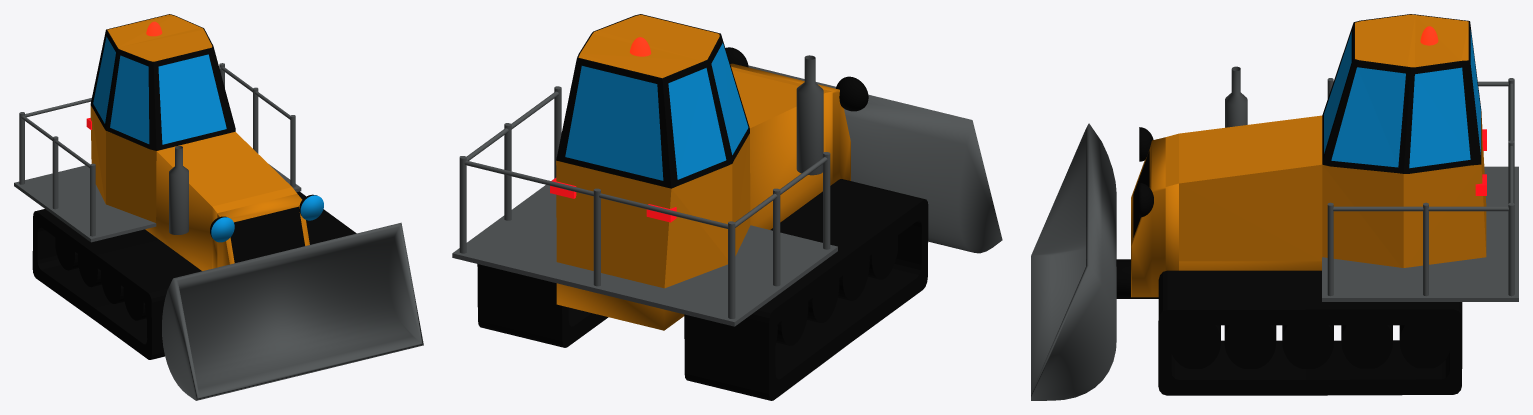
File: untitledupgradedShort.dae
3 views of the same model, side by side, from view 1: azimuth 30°, elevation 25°; view 2: azimuth 150°, elevation 25°; view 3: azimuth 270°, elevation 25° (orthographic). The views are drawn at different scales.
Parts seen in each view (by area): view 1: Korpus, FrontKnife, RightTrack, Plane.001, GasTube, Sphere, LeftTrack, Cylinder.005, Cylinder.002, Cylinder.001, Cylinder.007, Cylinder.003; view 2: Korpus, RightTrack, Plane.001, FrontKnife, LeftTrack, GasTube, Cylinder.010, Sphere, Cylinder.007, Cylinder.006, Cylinder.004, Cylinder.002 (+6 smaller); view 3: Korpus, LeftTrack, FrontKnife, Plane.001, Cylinder.008, GasTube, Sphere, Cylinder.001, Cylinder.004, Cylinder.010, Cylinder.003.
Part boxes in pixels (x1,y1,x2,y2): Korpus: (90,14,309,270); FrontKnife: (162,222,423,400); RightTrack: (32,209,201,359); Plane.001: (14,164,301,242); GasTube: (169,146,188,234); Sphere: (210,194,323,242); LeftTrack: (296,191,356,244); Cylinder.005: (52,136,58,209); Cylinder.002: (90,163,95,236); Cylinder.001: (290,115,295,187); Cylinder.007: (19,112,24,184); Cylinder.003: (253,87,258,153); Korpus: (556,14,850,330); RightTrack: (684,179,928,400); Plane.001: (452,185,837,326); FrontKnife: (748,65,1002,253); LeftTrack: (477,264,608,347); GasTube: (796,55,823,175); Cylinder.010: (464,160,728,228); Sphere: (725,47,868,111); Cylinder.007: (728,221,735,318); Cylinder.006: (593,188,600,286); Cylinder.004: (459,156,466,253); Cylinder.002: (823,152,830,249); Korpus: (1131,14,1486,297); LeftTrack: (1158,270,1462,395); FrontKnife: (1031,123,1158,400); Plane.001: (1322,166,1518,301); Cylinder.008: (1333,206,1508,211); GasTube: (1225,66,1247,127); Sphere: (1139,127,1153,217); Cylinder.001: (1327,202,1333,296); Cylinder.004: (1508,202,1514,296); Cylinder.010: (1509,83,1513,202); Cylinder.003: (1423,202,1428,296).
Bounding box in the file's own units: 5.73 × 8.26 × 5.66.
